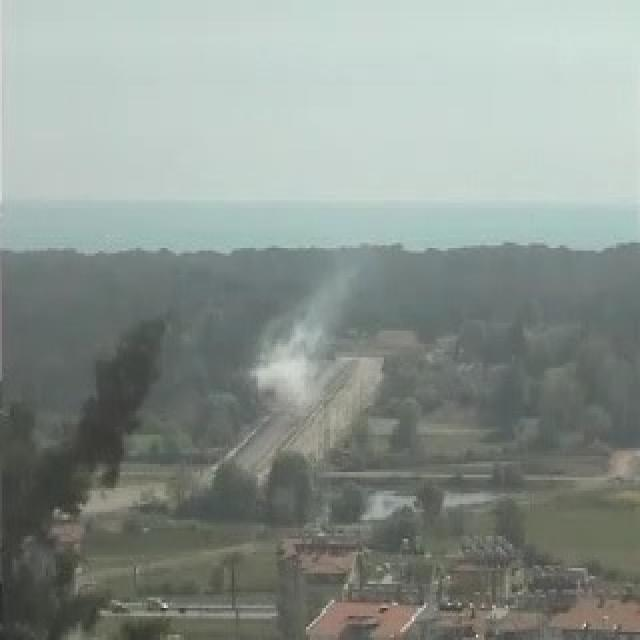smoke: (249, 297, 327, 405)
